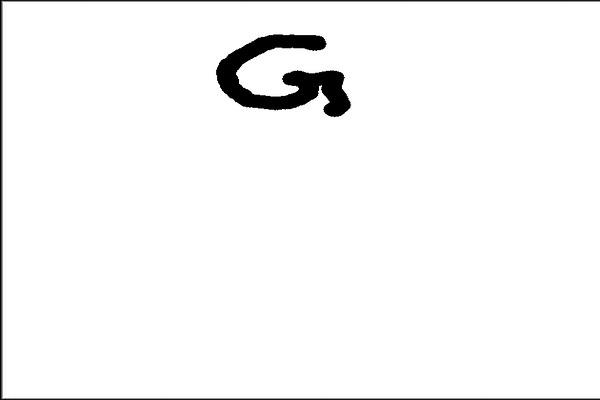G: (212, 27, 355, 126)
